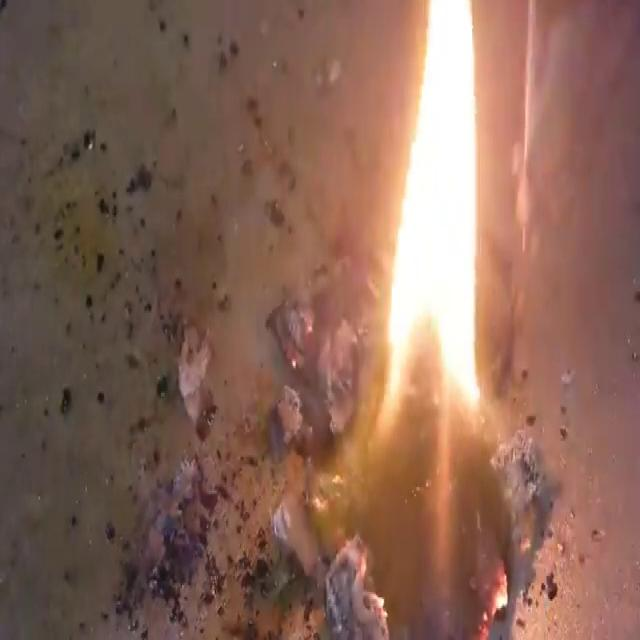Fire: (4, 2, 637, 636), (377, 4, 484, 432)
